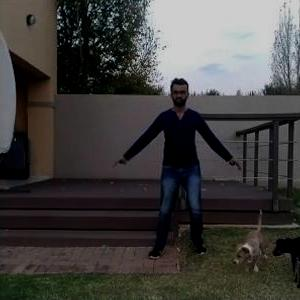land: (99, 88, 240, 248)
